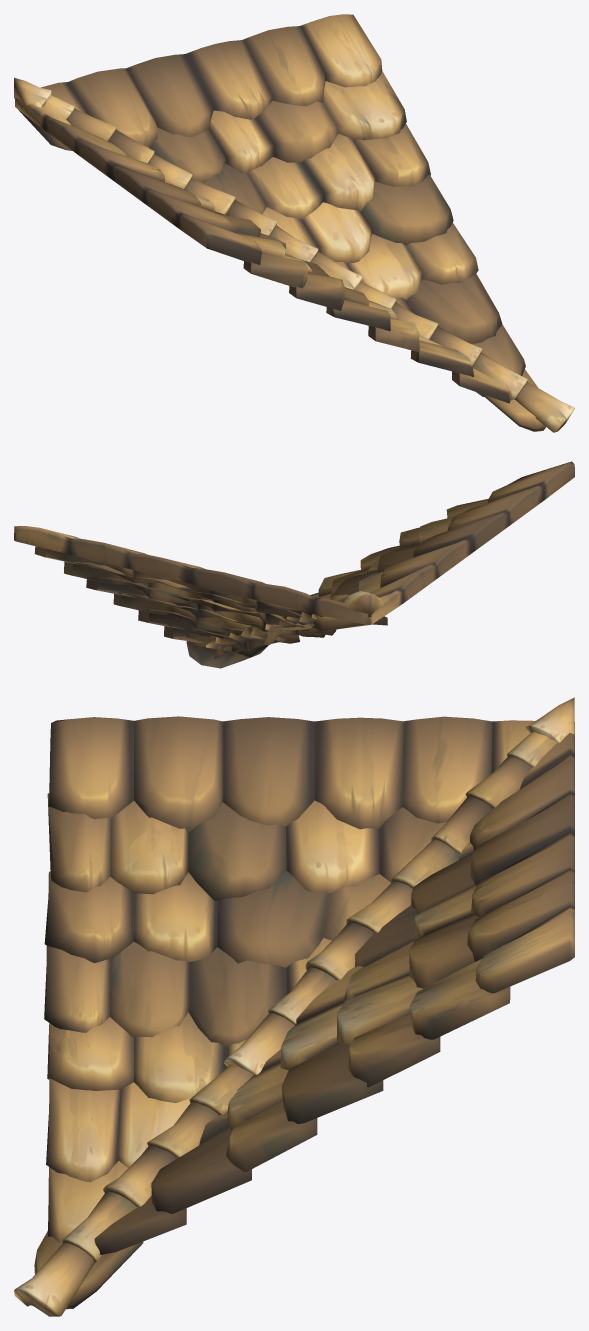
Rendered from SM_MOD_roof_corner_concave_bricks_town.fbx.
3 renders of one model, top to bottom at view 1: azimuth 30°, elevation 25°; view 2: azimuth 150°, elevation 25°; view 3: azimuth 270°, elevation 25°, orthographic. The views are drawn at different scales.
Visible parts, largest first — view 1: SM_MOD_roof_corner_concave_bricks_town_LOD0; view 2: SM_MOD_roof_corner_concave_bricks_town_LOD0; view 3: SM_MOD_roof_corner_concave_bricks_town_LOD0.
Part boxes in pixels (box(x1,y1,x2,y2)): SM_MOD_roof_corner_concave_bricks_town_LOD0: box(14, 14, 574, 432); SM_MOD_roof_corner_concave_bricks_town_LOD0: box(14, 461, 574, 668); SM_MOD_roof_corner_concave_bricks_town_LOD0: box(14, 697, 574, 1316).
Size of what is drawn, in the model's own units: 430 by 332 by 429.
